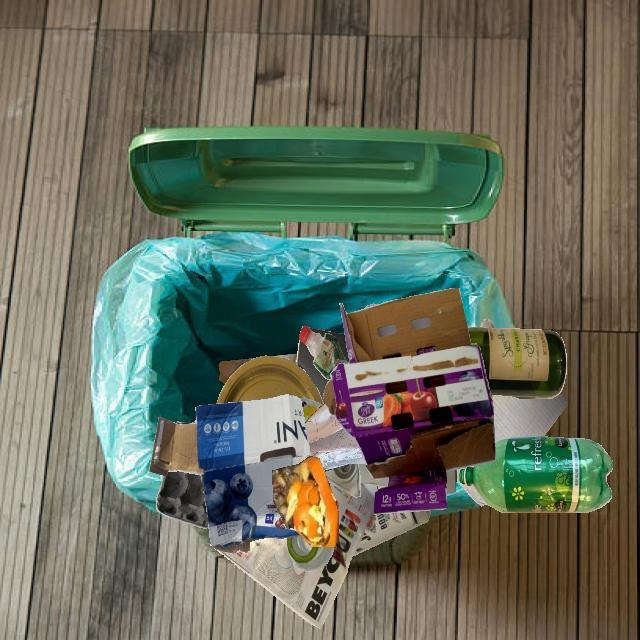biowaste: (272, 456, 339, 547)
cardboard: (323, 288, 495, 514), (149, 394, 310, 553), (312, 338, 491, 397), (156, 471, 209, 529)
glass: (468, 327, 566, 399), (353, 510, 430, 555), (286, 536, 334, 571), (324, 464, 361, 497), (298, 397, 323, 423)
paper: (215, 481, 374, 629), (217, 355, 324, 405), (305, 402, 365, 471), (495, 393, 568, 442), (473, 328, 495, 466), (218, 358, 256, 385), (358, 464, 389, 486), (270, 354, 298, 366), (361, 482, 377, 497), (446, 469, 456, 493)
plastic: (459, 436, 613, 513), (299, 326, 348, 381), (364, 304, 378, 309)
